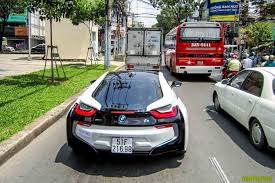Bien-so: (111, 137, 134, 153)
